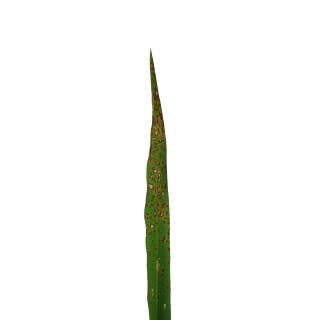Blast: (152, 130, 161, 142), (147, 182, 157, 192), (154, 87, 158, 111), (158, 208, 166, 219), (158, 170, 162, 182), (161, 189, 166, 198)
